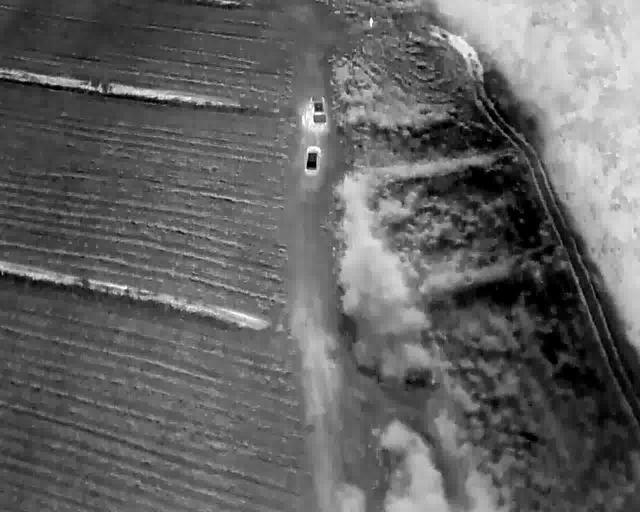car: (310, 95, 326, 129), (304, 146, 320, 174)
person: (369, 17, 373, 27), (301, 115, 305, 124)
